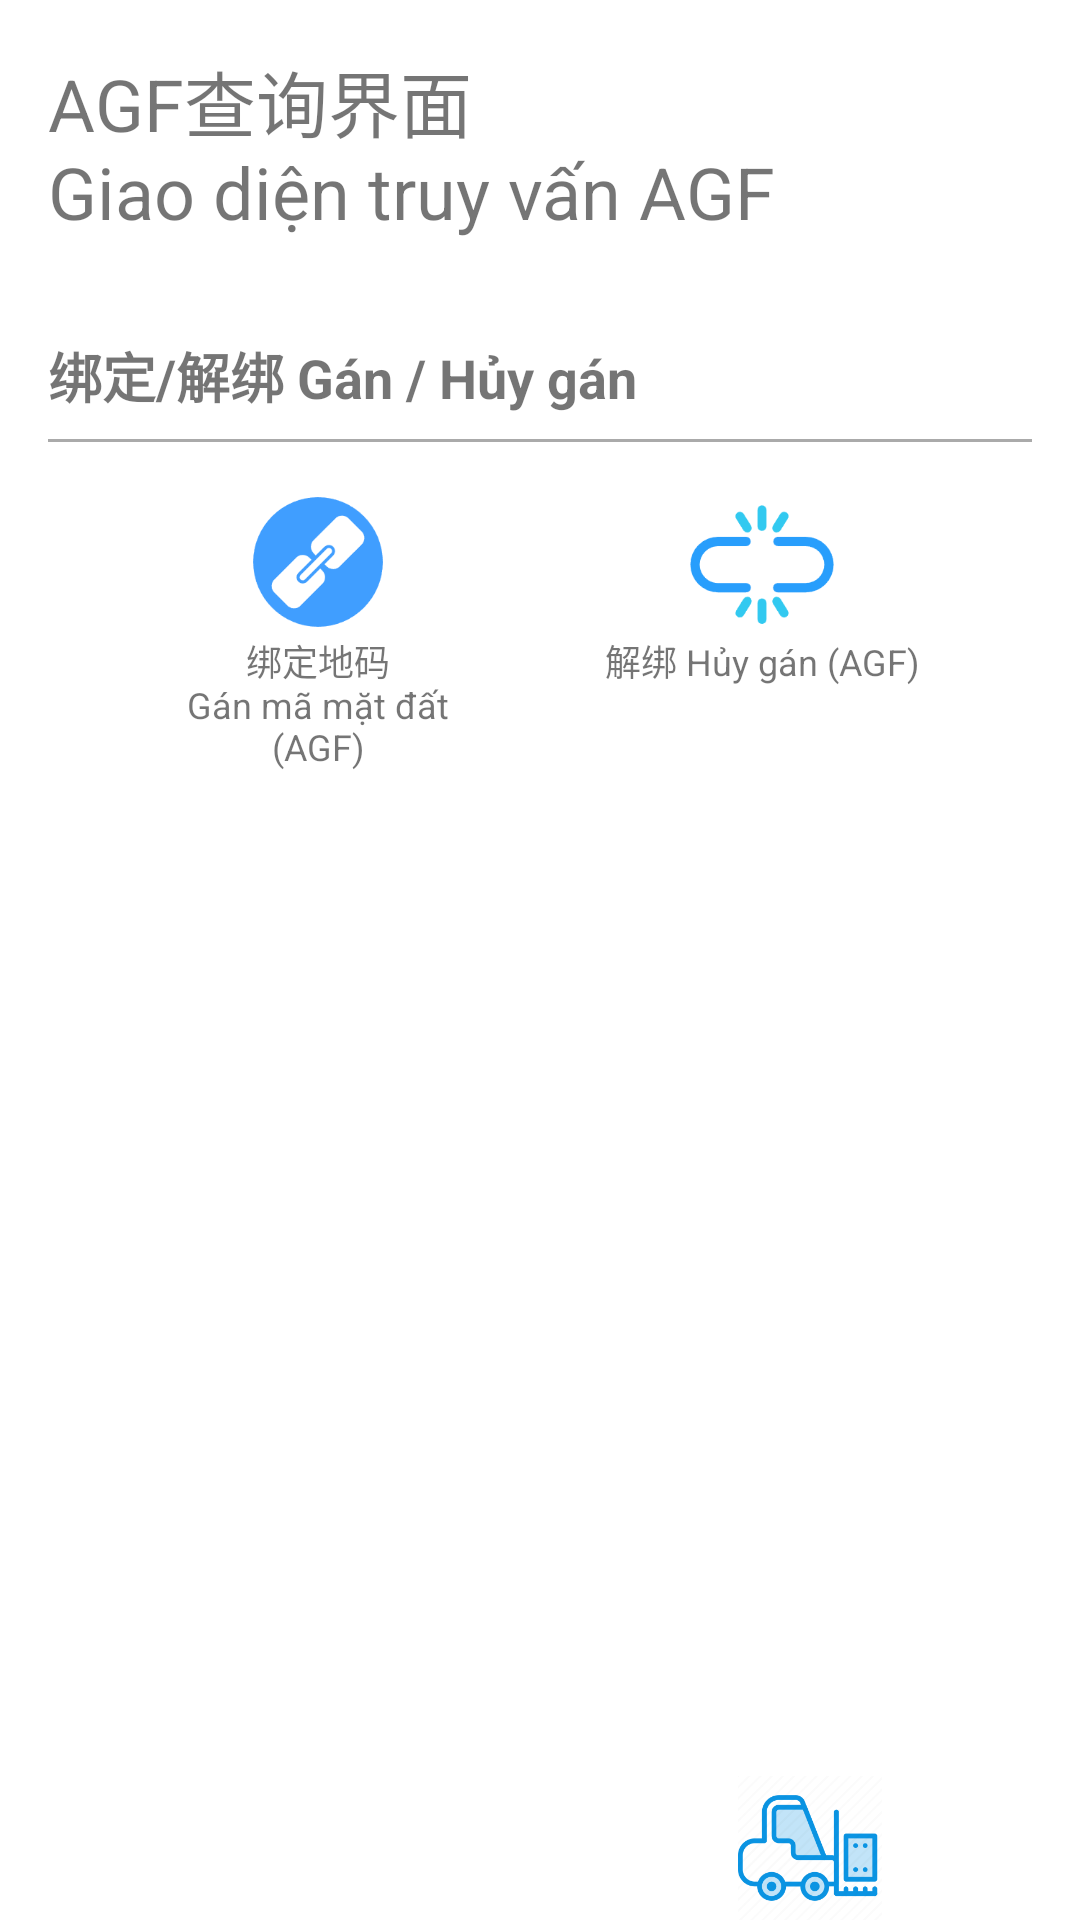

Icon click points for this 1080px x 1920px phone screenshot, format point (x, y):
forklift: point (808, 1848)
